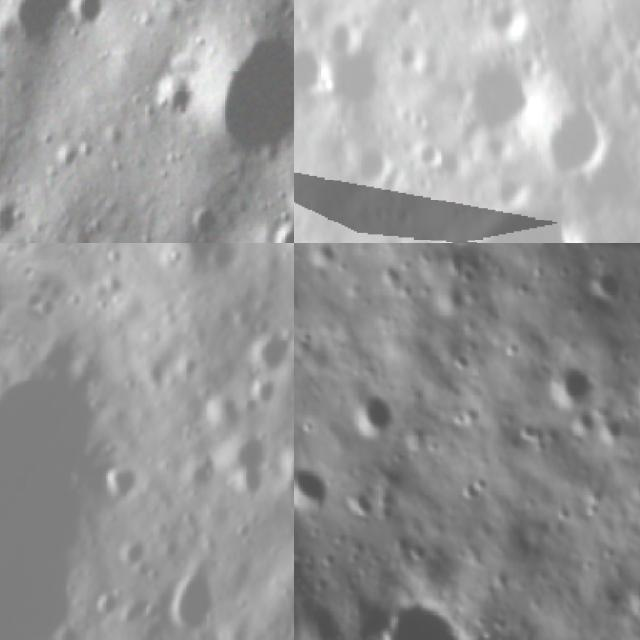crater: (197, 22, 294, 163), (148, 547, 241, 640), (198, 418, 290, 511), (355, 578, 492, 640), (454, 57, 534, 136), (540, 93, 612, 176), (534, 352, 612, 423), (137, 243, 269, 282), (339, 379, 413, 448), (261, 496, 294, 636), (294, 452, 344, 535), (90, 448, 154, 512), (237, 309, 294, 378), (104, 516, 164, 580), (261, 413, 294, 522), (238, 360, 294, 419), (81, 573, 137, 628), (12, 0, 67, 54), (328, 4, 382, 52), (479, 0, 528, 43), (609, 566, 640, 632), (294, 41, 333, 93), (350, 141, 398, 183), (184, 200, 221, 243), (69, 0, 104, 45), (0, 192, 29, 243), (159, 79, 194, 121), (493, 174, 527, 212), (415, 138, 451, 172), (624, 358, 640, 414), (266, 218, 294, 243)
